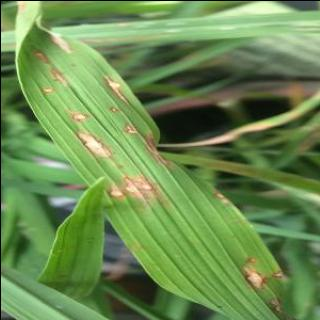Blast: (70, 110, 112, 160), (102, 169, 158, 201), (232, 257, 270, 294)
